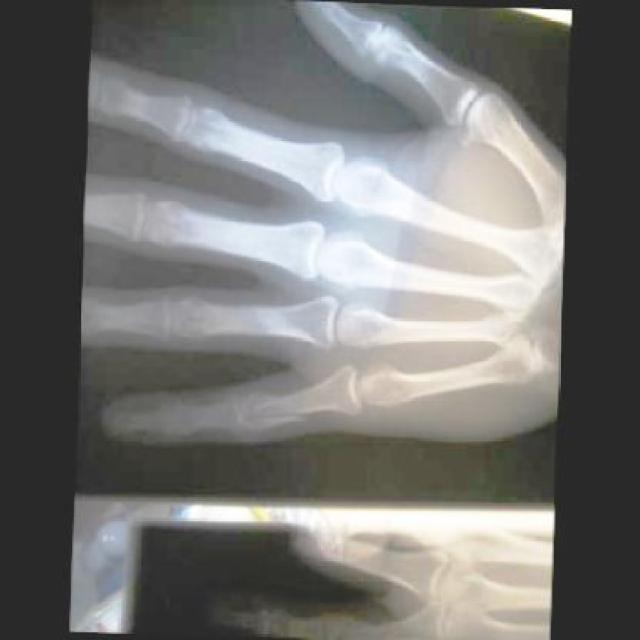Fracture: (232, 380, 308, 440)
